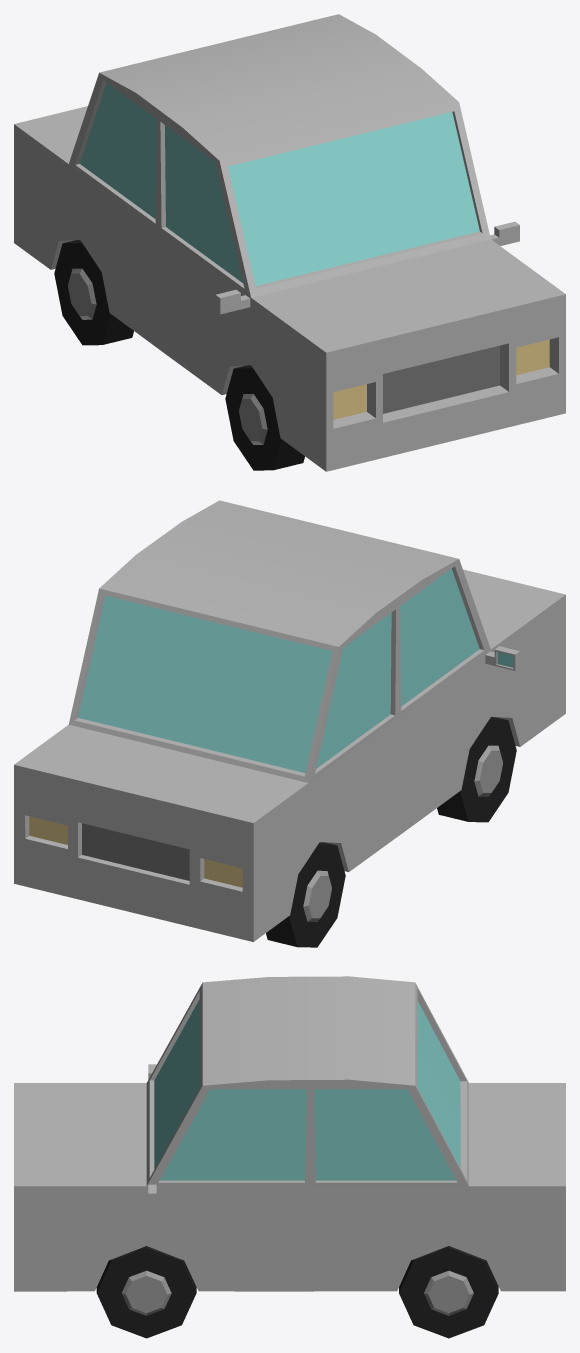
File: Car_White.fbx
The picture shows the model from 3 angles, top to bottom: view 1: azimuth 30°, elevation 25°; view 2: azimuth 150°, elevation 25°; view 3: azimuth 270°, elevation 25°; orthographic projection. The views are drawn at different scales.
Parts seen in each view (by area): view 1: pCube7; view 2: pCube7; view 3: pCube7.
Boxes of the visible parts, bbox=[...] form: pCube7: bbox=[14, 14, 565, 471]; pCube7: bbox=[14, 500, 565, 947]; pCube7: bbox=[14, 976, 565, 1338].
Bounding box in the file's own units: 165 × 154 × 297.
